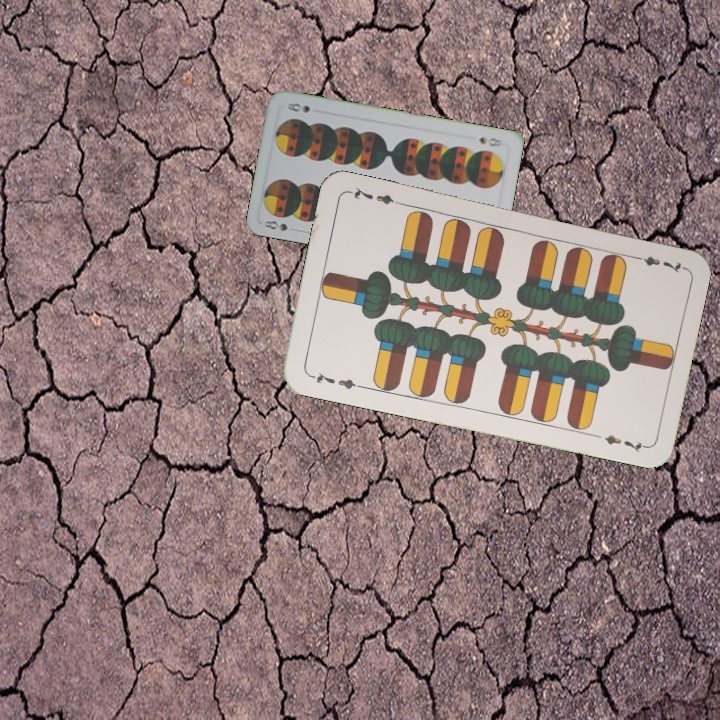E7: (627, 251, 686, 276), (305, 368, 364, 392)
S8: (260, 216, 301, 234), (475, 133, 505, 149)
